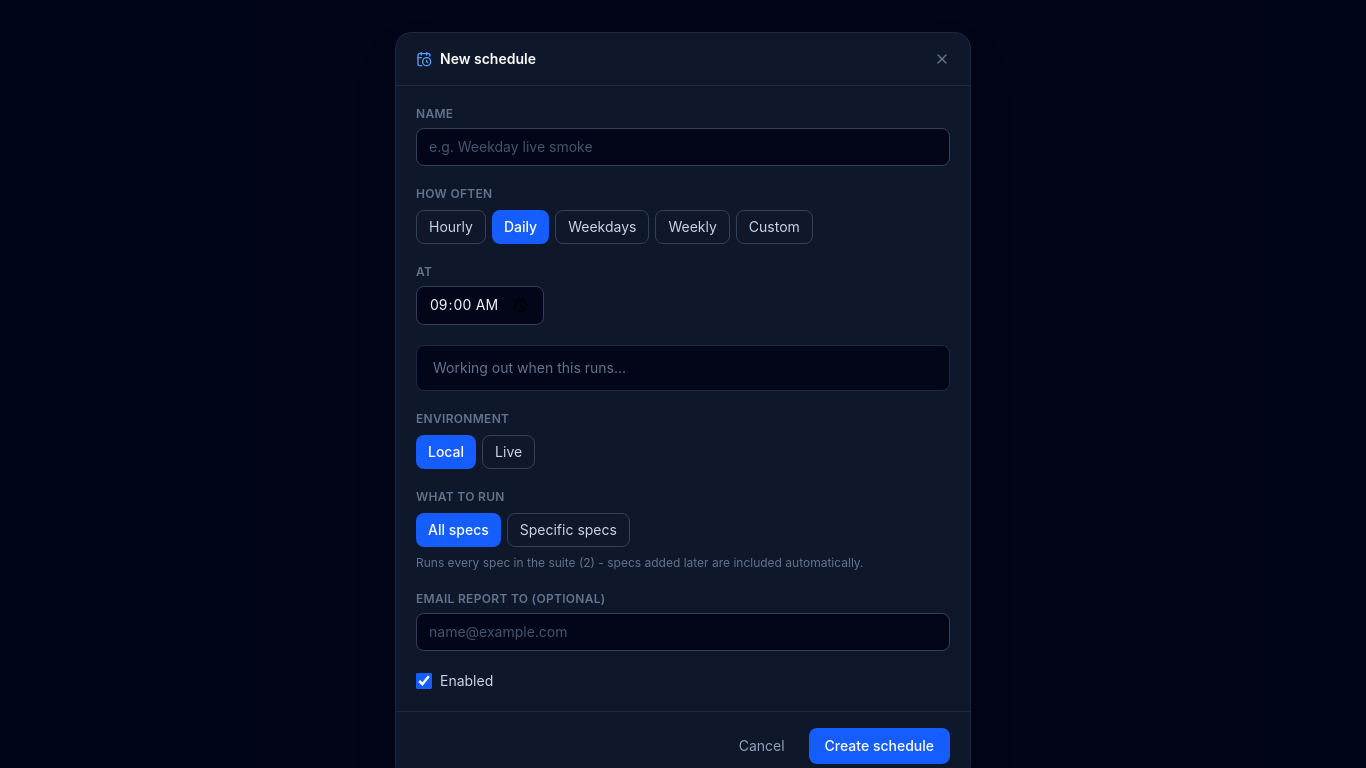
ScheduleDialog › says the address will not be emailed while email is unconfigured
The width and height of the screenshot is (1366, 768).
Type "team@example.com" into the field with placeholder "name@example.com". click: {"x": 683, "y": 632}
box: [416,613,950,651]
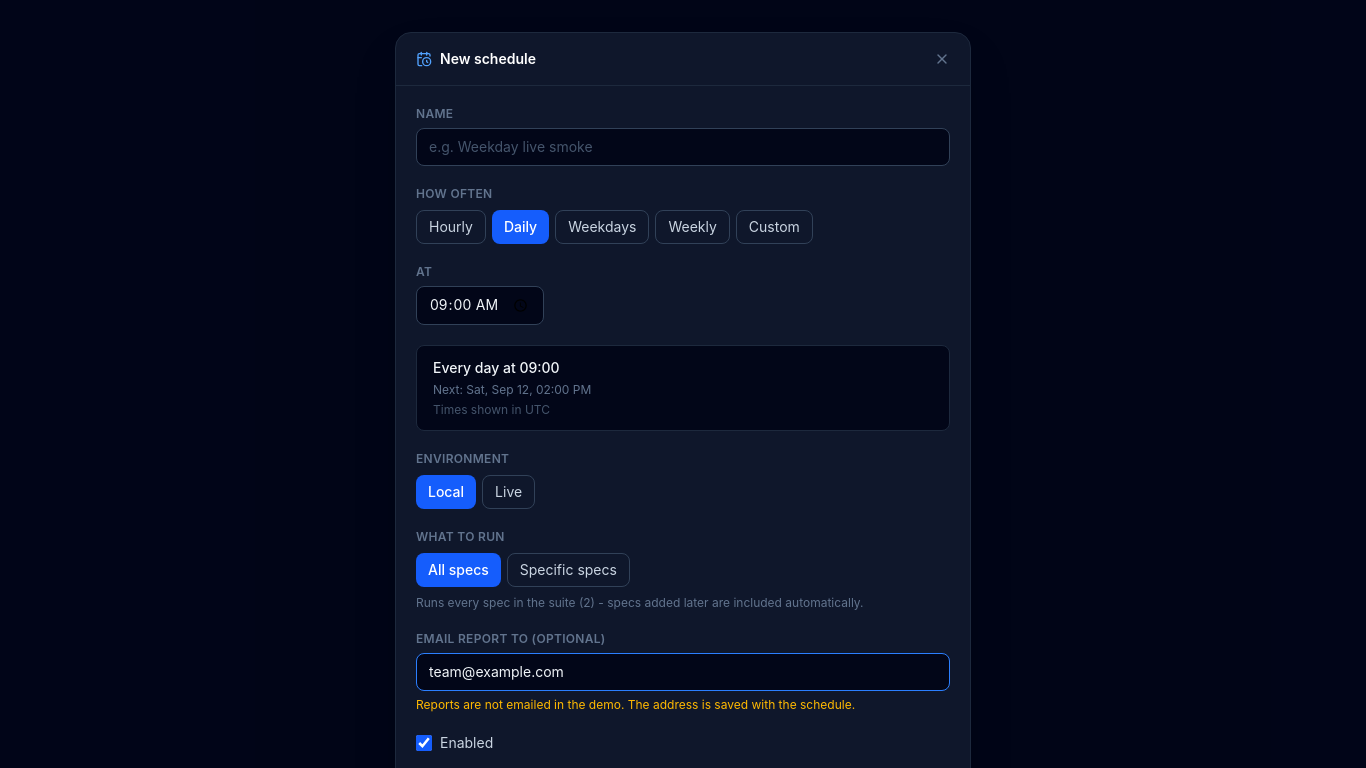
Expected: the text "not emailed in the demo" is shown, [416,697,855,712]
